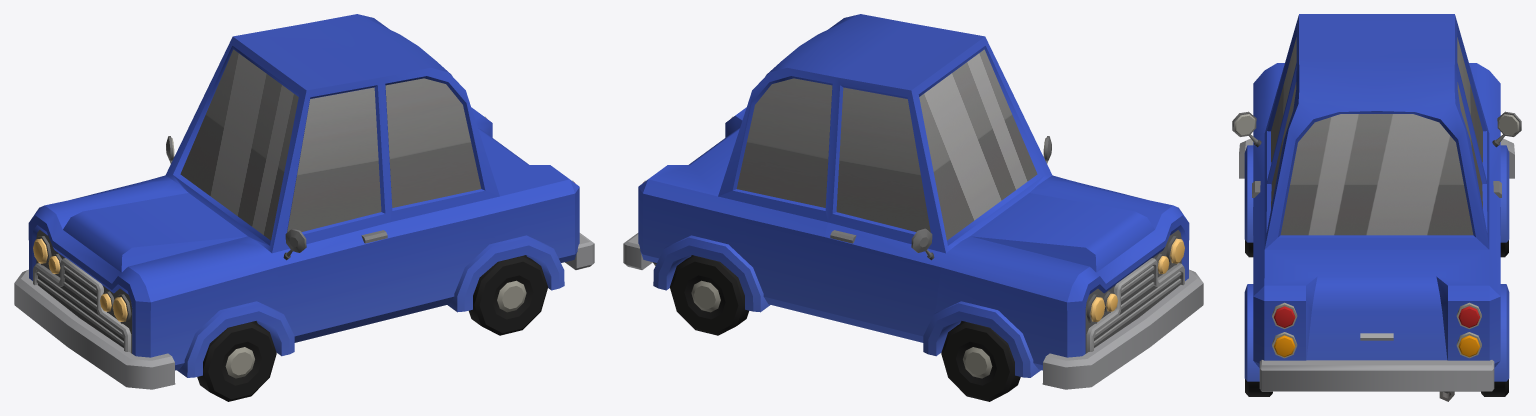
Rendered from Car_8_G.gltf.
3 views of the same model, side by side, from view 1: azimuth 30°, elevation 25°; view 2: azimuth 150°, elevation 25°; view 3: azimuth 270°, elevation 25° (orthographic). The views are drawn at different scales.
Parts seen in each view (by area): view 1: Car_8_G, RL, FL; view 2: Car_8_G, RR, FR; view 3: Car_8_G, RL, RR.
Part boxes in pixels (<box>): Car_8_G: <box>14,14,594,389</box>; RL: <box>469,255,547,335</box>; FL: <box>197,321,276,401</box>; Car_8_G: <box>623,14,1203,389</box>; RR: <box>670,255,748,335</box>; FR: <box>941,321,1020,401</box>; Car_8_G: <box>1232,14,1521,401</box>; RL: <box>1245,379,1272,396</box>; RR: <box>1481,379,1508,396</box>.
Bounding box in the file's own units: 3.38 × 1.84 × 1.7.
3 materials, 3 textured.
